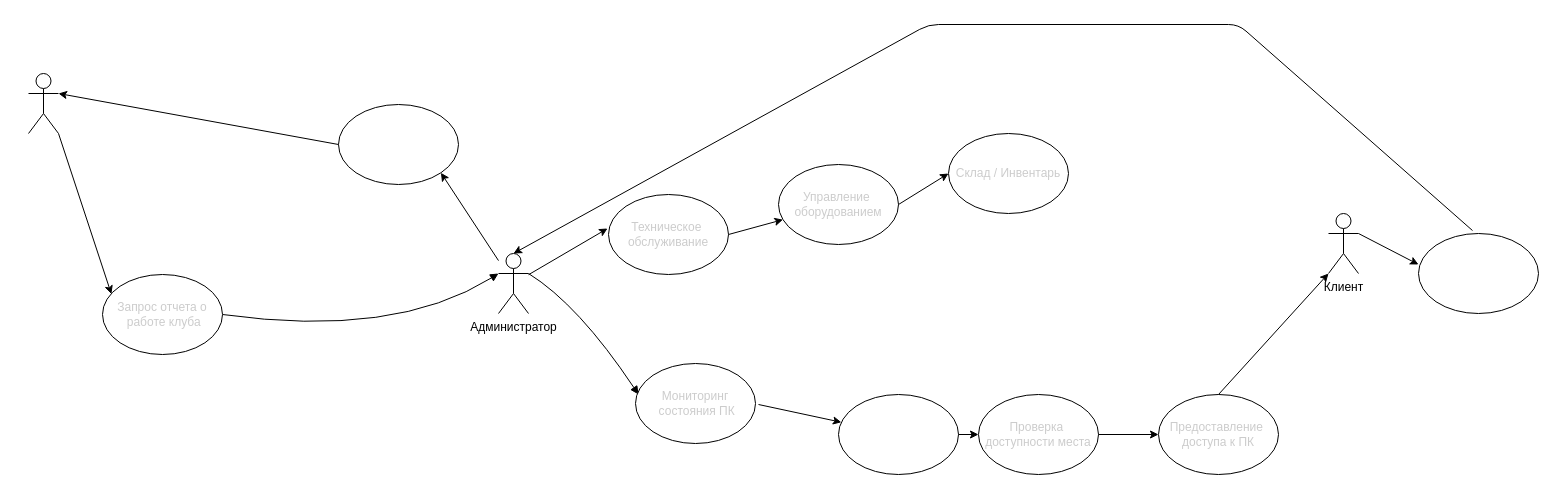
Image size: 1556x492. Some labels were removed from this diagram. Each missing label, with the centre of its shape:
Директор: the point at 43,103
Запрос клиента: the point at 1478,273
Отчет о работе клуба: the point at 398,144
Решение технических проблем: the point at 898,434
